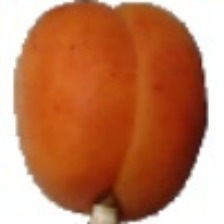apricot: (23, 12, 222, 192)
